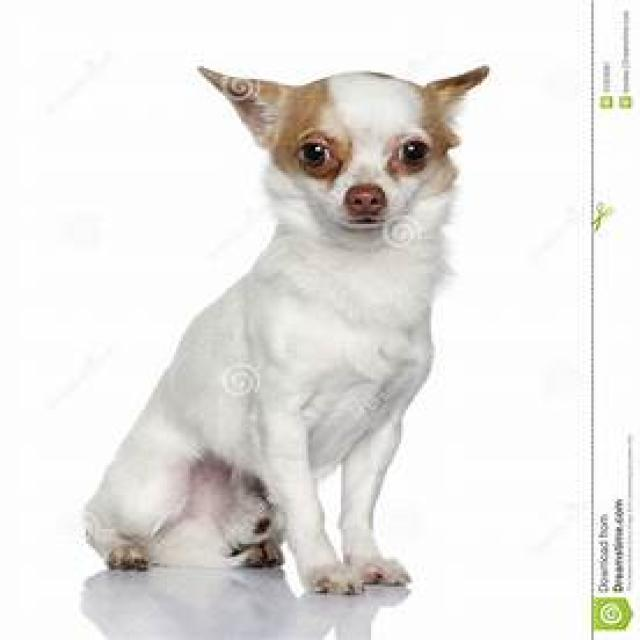animal: (79, 62, 489, 595)
